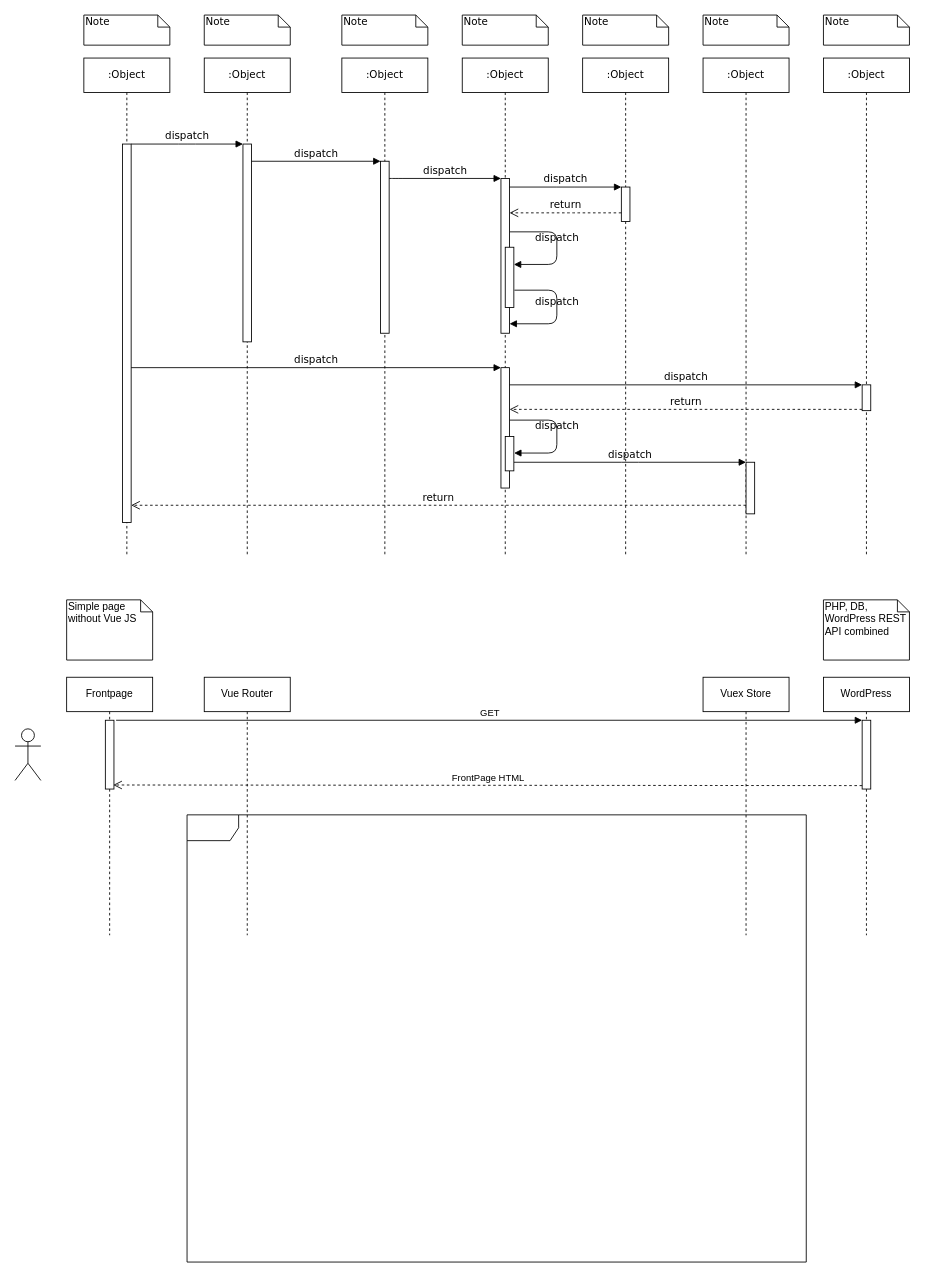
Image size: 925x1277. Some labels were removed from this diagram. The shapes that lost their labels are listed below. From the top down, each one's box as (x1, y1, x2, y2) in pixels, then its label:
(14, 728, 41, 780): User
(186, 814, 806, 1262): Vue App
